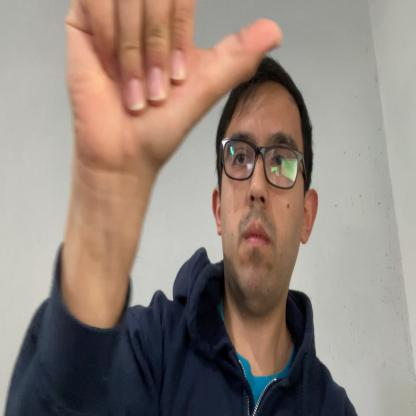A: (65, 0, 282, 171)
